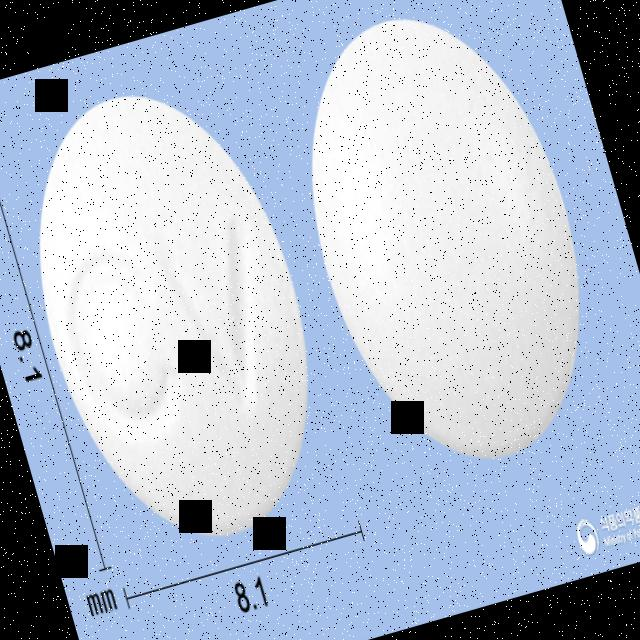Jeil Cravit: (0, 58, 356, 567)
